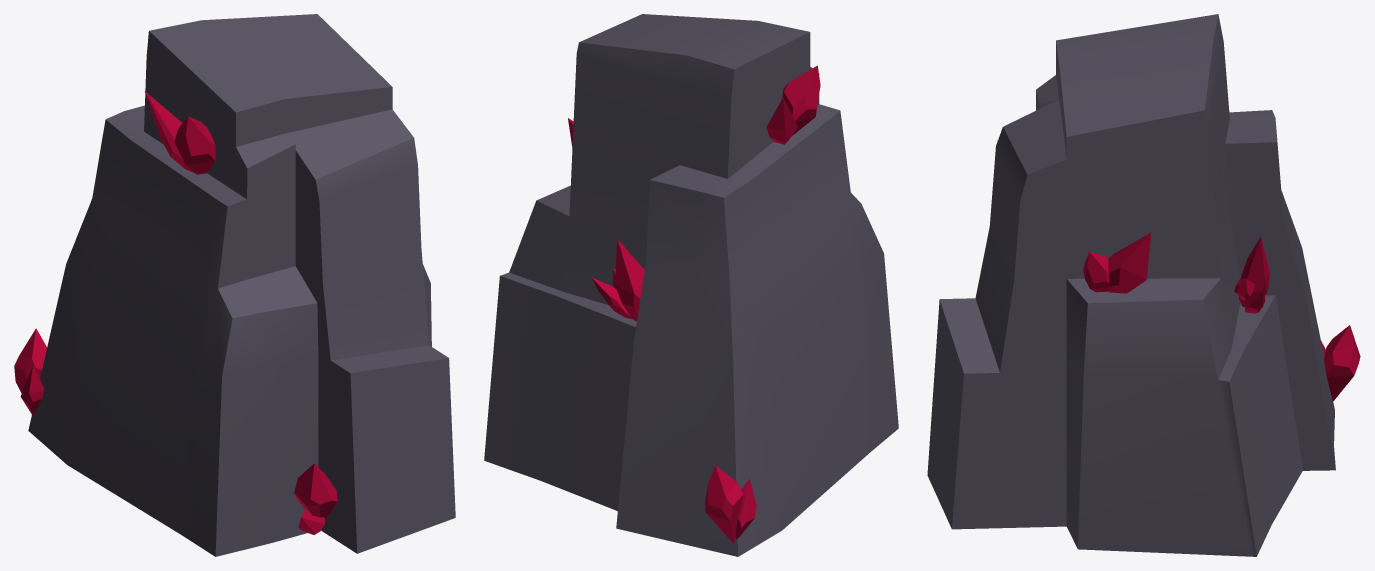
File: Minerai01.fbx
3 renders of one model, left to right at view 1: azimuth 30°, elevation 25°; view 2: azimuth 150°, elevation 25°; view 3: azimuth 270°, elevation 25°, orthographic.
Visible parts, largest first — view 1: Minerai01; view 2: Minerai01; view 3: Minerai01.
Part boxes in pixels (box(x1,y1,x2,y2)): Minerai01: box(14, 14, 455, 556); Minerai01: box(484, 14, 898, 556); Minerai01: box(927, 14, 1360, 556).
Size of the model in its own units: 83.65 by 115 by 104.
